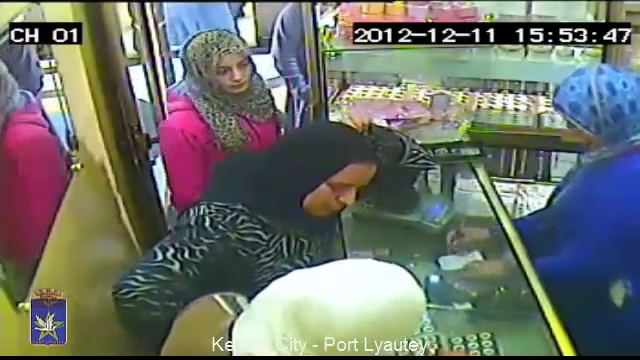face: (292, 150, 369, 214), (206, 55, 253, 96)
